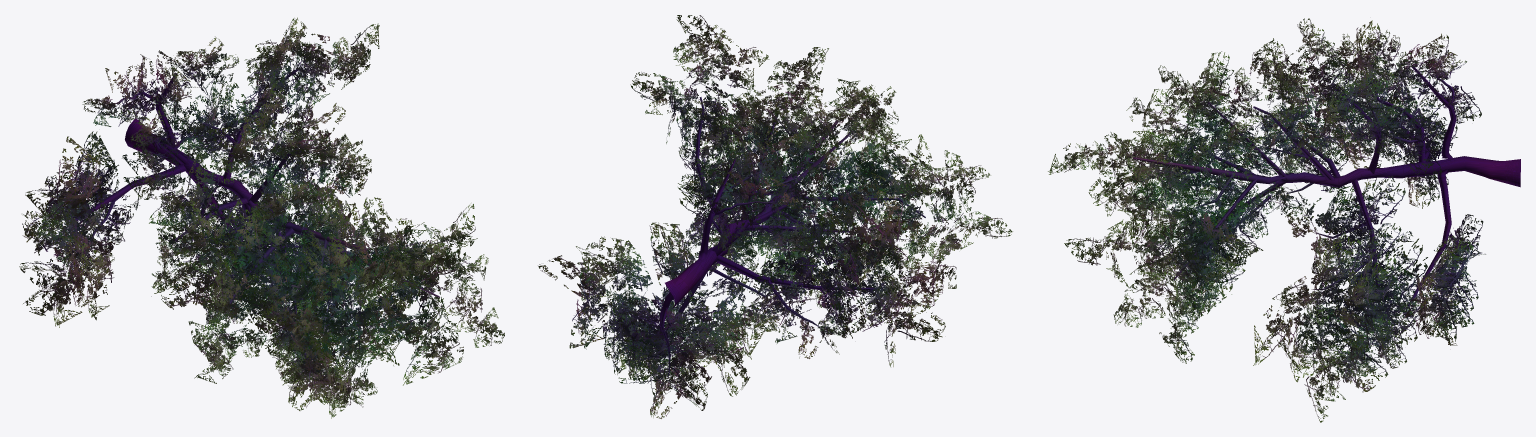
File: oak_large_oak_tree_002_lod2.glb
3 views of the same model, side by side, from view 1: azimuth 30°, elevation 25°; view 2: azimuth 150°, elevation 25°; view 3: azimuth 270°, elevation 25° (orthographic). The views are drawn at different scales.
Visible parts, largest first — view 1: Large_oak_tree_002_LOD2; view 2: Large_oak_tree_002_LOD2; view 3: Large_oak_tree_002_LOD2.
Boxes of the visible parts, x1=… form: Large_oak_tree_002_LOD2: x1=19, y1=17, x2=504, y2=418; Large_oak_tree_002_LOD2: x1=538, y1=15, x2=1012, y2=418; Large_oak_tree_002_LOD2: x1=1048, y1=18, x2=1520, y2=422.
Size of the model in its own units: 24.5 by 22.64 by 26.95.
Materials: 2 (2 with a texture image).
